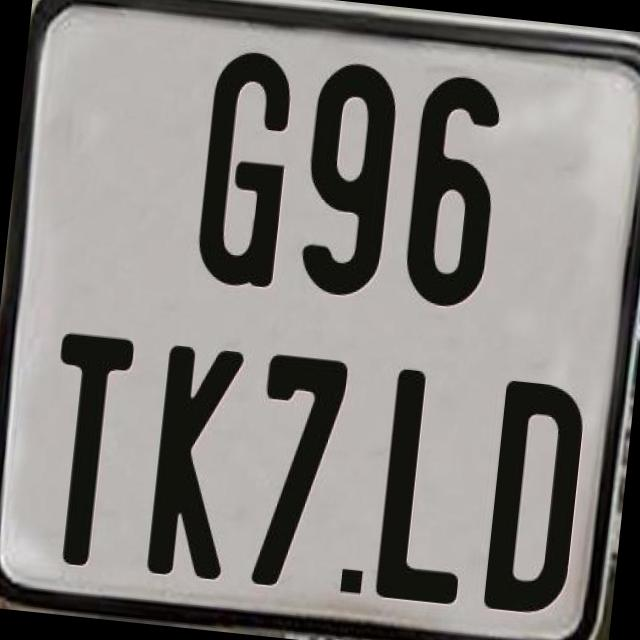6: (399, 67, 506, 308)
7: (245, 353, 351, 592)
9: (296, 59, 404, 304)
D: (478, 377, 588, 619)
G: (189, 48, 296, 294)
K: (142, 340, 245, 576)
L: (374, 363, 481, 602)
T: (35, 330, 134, 568)
